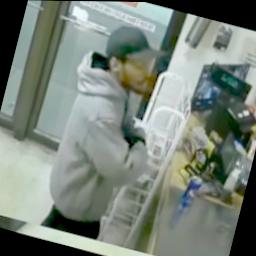nonspitting: (32, 11, 202, 254)
